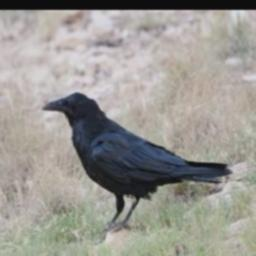Crow: (39, 91, 234, 238)
